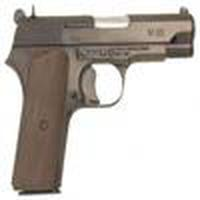gun: (5, 3, 199, 200)
